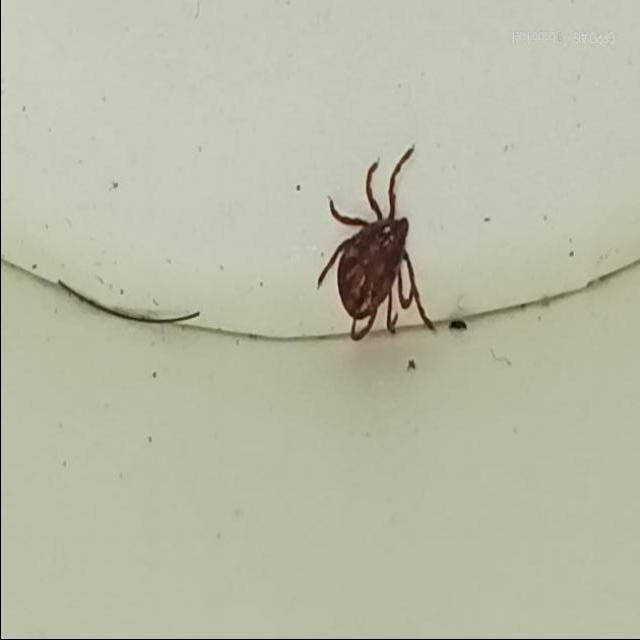Rhipicephalus Sanguineus-M: (317, 143, 438, 341)
